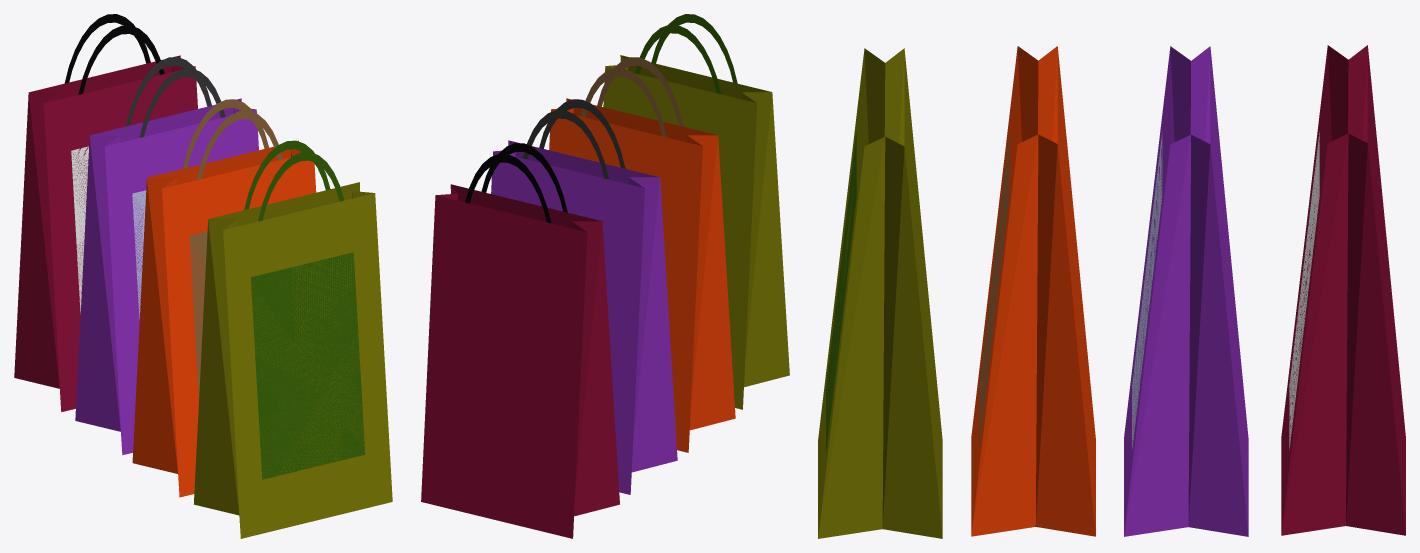
File: giftBags.dae
The picture shows the model from 3 angles, left to right: view 1: azimuth 30°, elevation 25°; view 2: azimuth 150°, elevation 25°; view 3: azimuth 270°, elevation 25°; orthographic projection. The views are drawn at different scales.
Visible parts, largest first — view 1: group_3 (×4), group_0 (×4), group_2 (×4), group_1 (×4); view 2: group_0 (×3), group_1 (×3), group_2 (×3), group_3 (×3); view 3: group_2 (×2), group_0 (×2), group_3 (×2), group_1 (×2).
Boxes of the visible parts, x1,y1,x2,y2 form: group_3 (×4): [194, 140, 392, 538]; group_0 (×4): [14, 14, 197, 412]; group_2 (×4): [132, 99, 316, 497]; group_1 (×4): [75, 57, 258, 455]; group_0 (×3): [421, 143, 619, 538]; group_1 (×3): [491, 99, 677, 494]; group_2 (×3): [549, 57, 735, 452]; group_3 (×3): [603, 14, 789, 409]; group_2 (×2): [971, 46, 1095, 536]; group_0 (×2): [1281, 45, 1405, 535]; group_3 (×2): [818, 48, 942, 538]; group_1 (×2): [1124, 46, 1248, 536].
Size of the model in its own units: 7.68 by 18.81 by 16.61.
